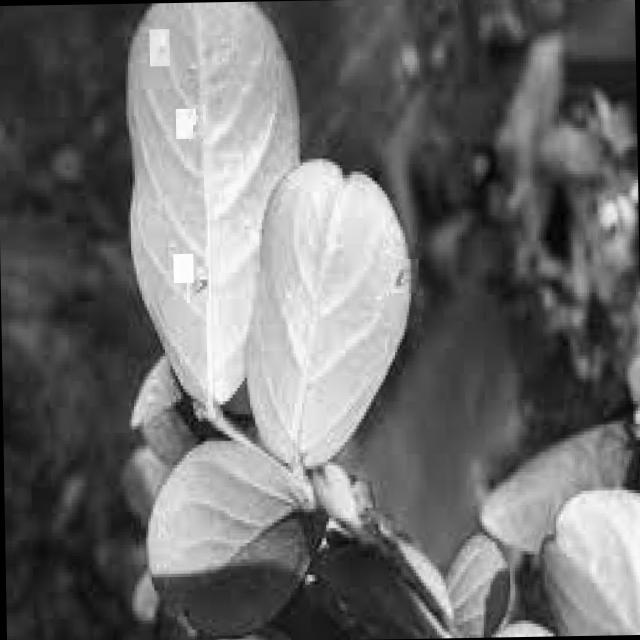aphid: (388, 258, 418, 292), (185, 266, 208, 302), (148, 29, 168, 66), (186, 104, 205, 138), (172, 254, 192, 282), (174, 118, 192, 138), (174, 108, 194, 125)
